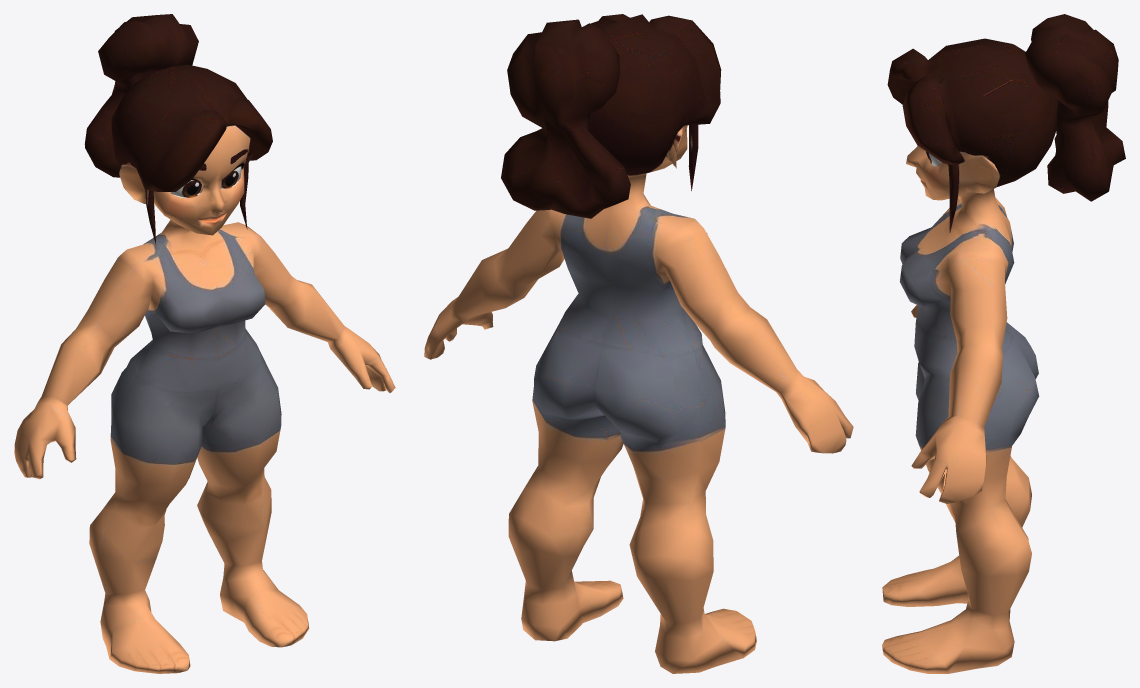
Rendered from mila-modular.glb.
The picture shows the model from 3 angles, left to right: view 1: azimuth 30°, elevation 25°; view 2: azimuth 150°, elevation 25°; view 3: azimuth 270°, elevation 25°; orthographic projection. The views are drawn at different scales.
Parts seen in each view (by area): view 1: MilaModular; view 2: MilaModular; view 3: MilaModular.
Boxes of the visible parts, <box> form: MilaModular: <box>14,14,395,673</box>; MilaModular: <box>424,14,853,673</box>; MilaModular: <box>882,14,1125,673</box>.
Size of the model in its own units: 0.6592 by 1 by 0.3646.
4 materials, 4 textured.
